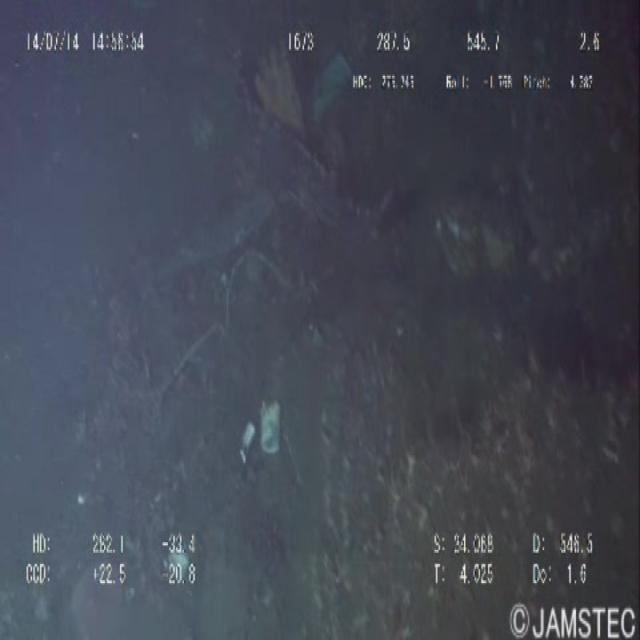Accessories: (118, 44, 407, 254)
Glass: (230, 409, 258, 481)
Plastic: (263, 395, 289, 455)
